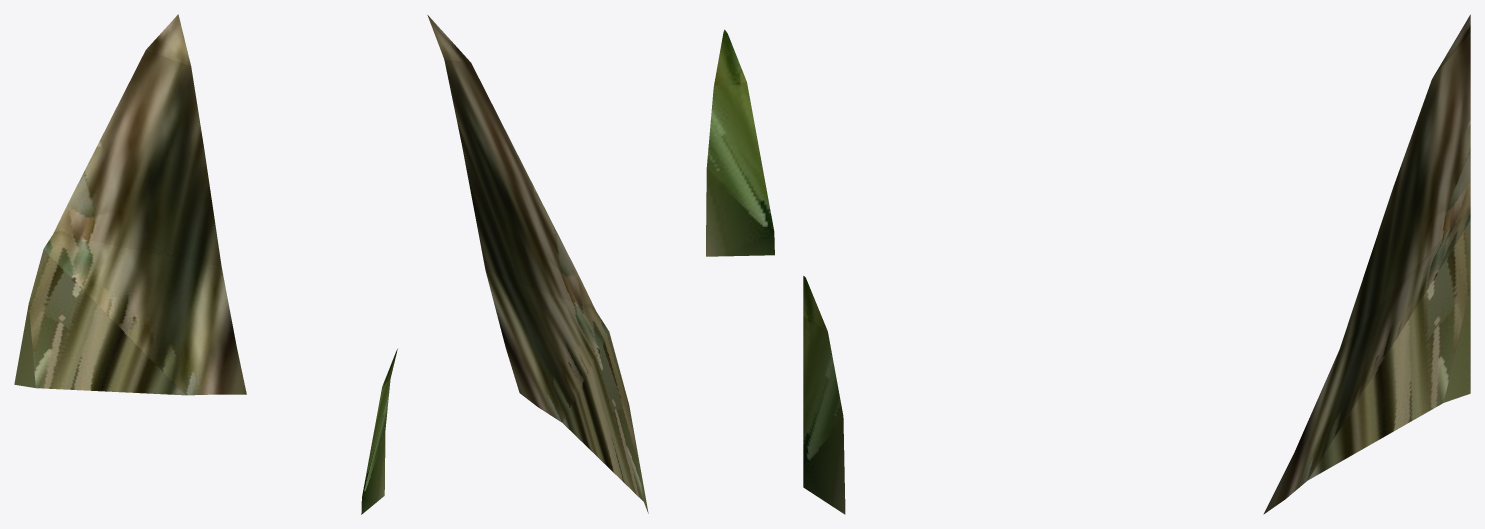
The picture shows the model from 3 angles, left to right: view 1: azimuth 30°, elevation 25°; view 2: azimuth 150°, elevation 25°; view 3: azimuth 270°, elevation 25°; orthographic projection. The views are drawn at different scales.
Size of the model in its own units: 0.3603 by 0.6936 by 0.8374.
Materials: 1 (1 with a texture image).
